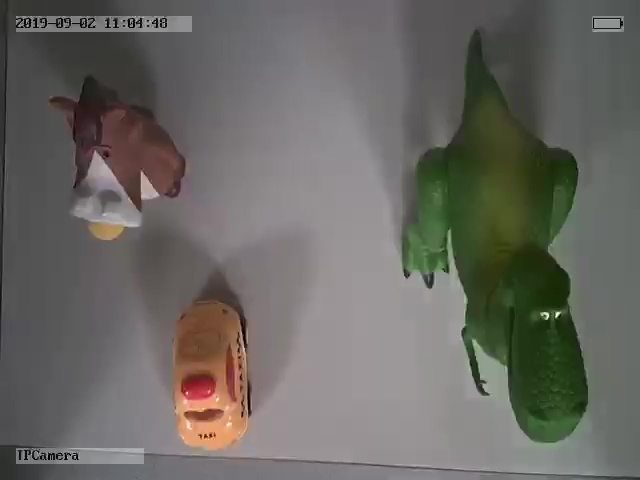car: (170, 298, 254, 449)
horse: (50, 76, 187, 242)
rex: (401, 60, 590, 442)
